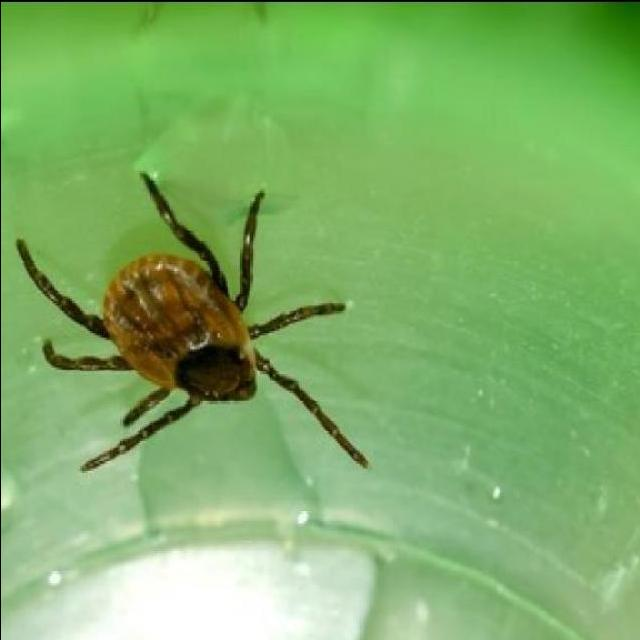Rhipicephalus Sanguineus-F: (14, 173, 365, 471)
